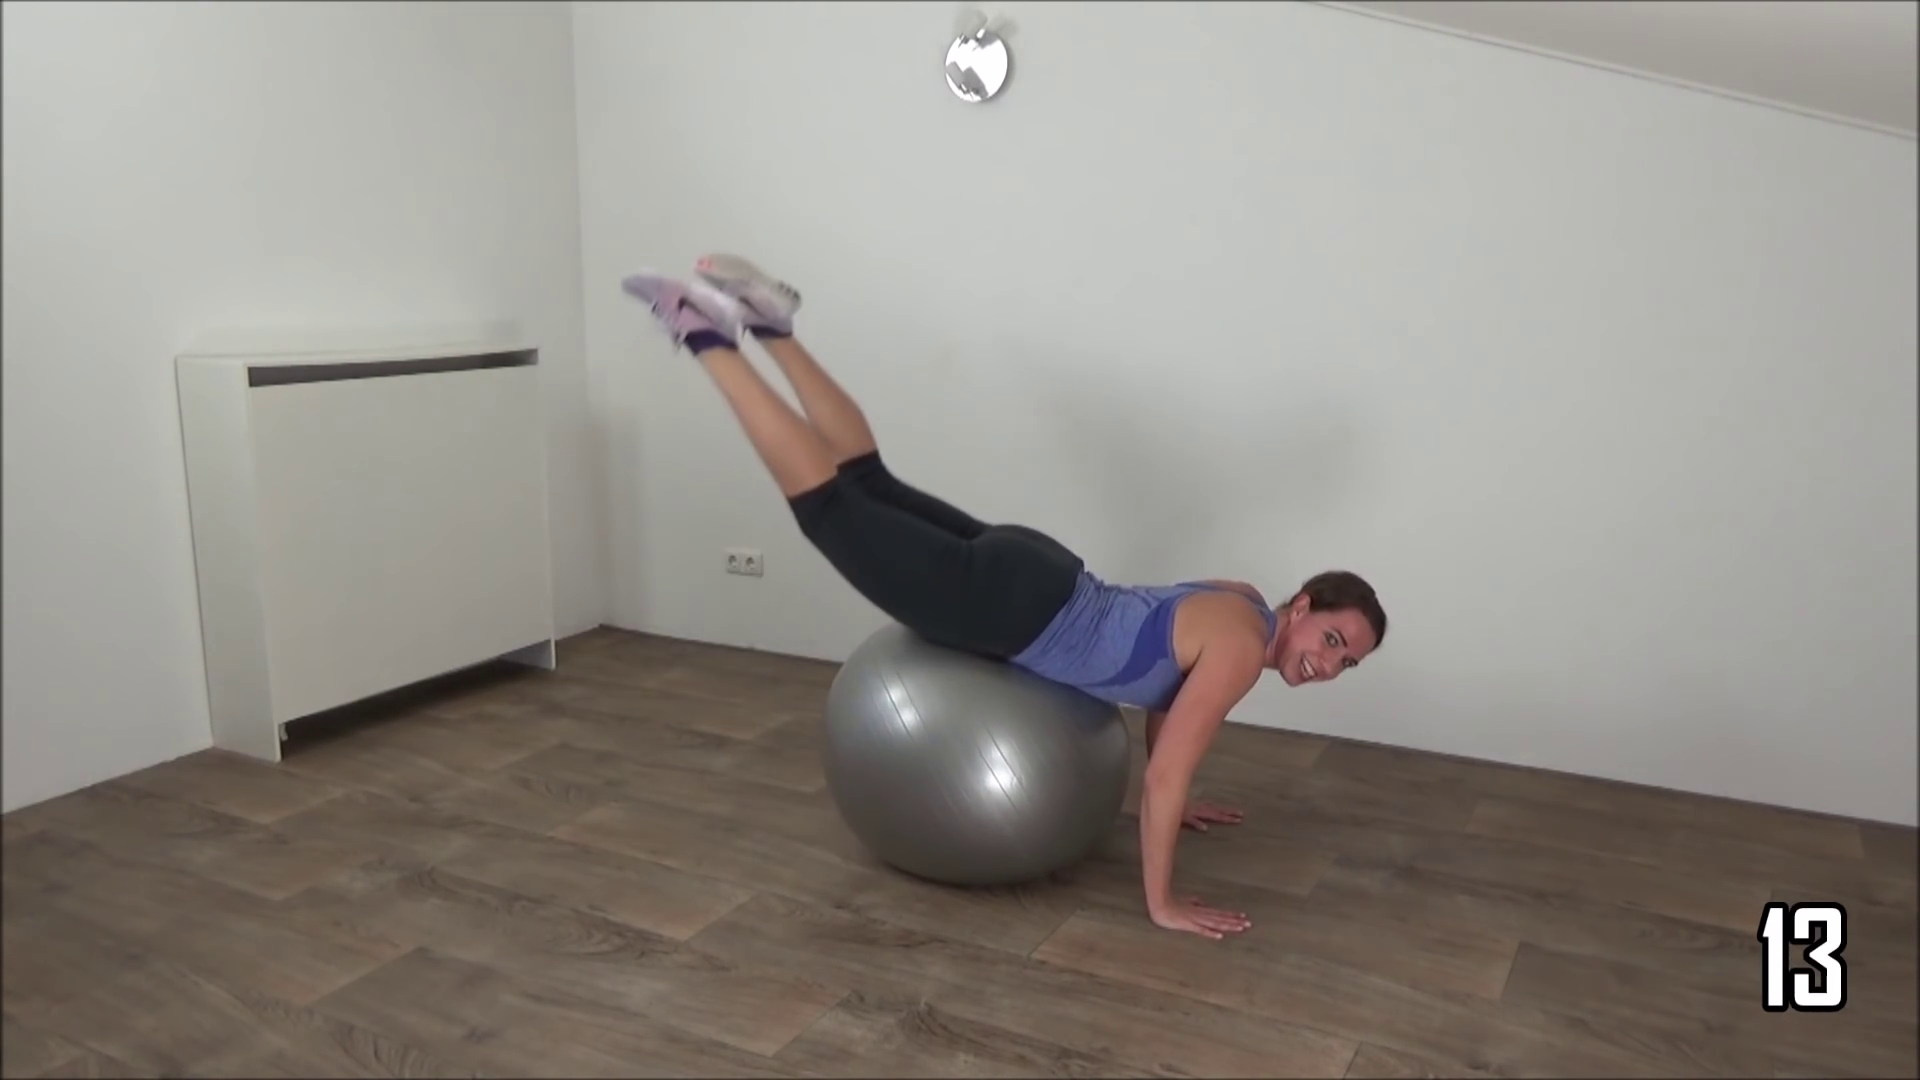yogaball: (803, 622, 1154, 891)
